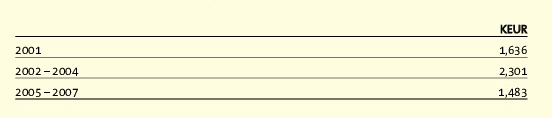table: (0, 0, 552, 118)
